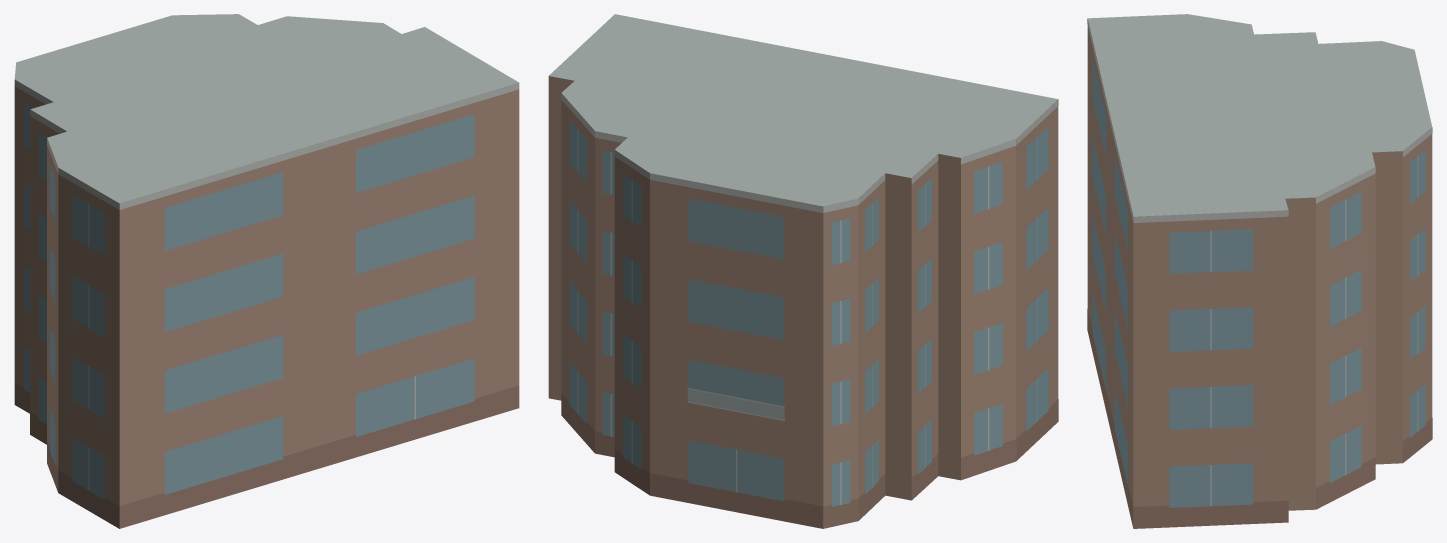
Rendered from survey-upis-32621095.glb.
3 renders of one model, left to right at view 1: azimuth 30°, elevation 25°; view 2: azimuth 150°, elevation 25°; view 3: azimuth 270°, elevation 25°, orthographic. The views are drawn at different scales.
Parts seen in each view (by area): view 1: survey-upis-32621095.tmp; view 2: survey-upis-32621095.tmp; view 3: survey-upis-32621095.tmp.
Boxes of the visible parts, bbox=[...] form: survey-upis-32621095.tmp: bbox=[14, 14, 519, 528]; survey-upis-32621095.tmp: bbox=[548, 14, 1058, 528]; survey-upis-32621095.tmp: bbox=[1087, 14, 1432, 528].
Bounding box in the file's own units: 16.54 × 11.87 × 11.89.
